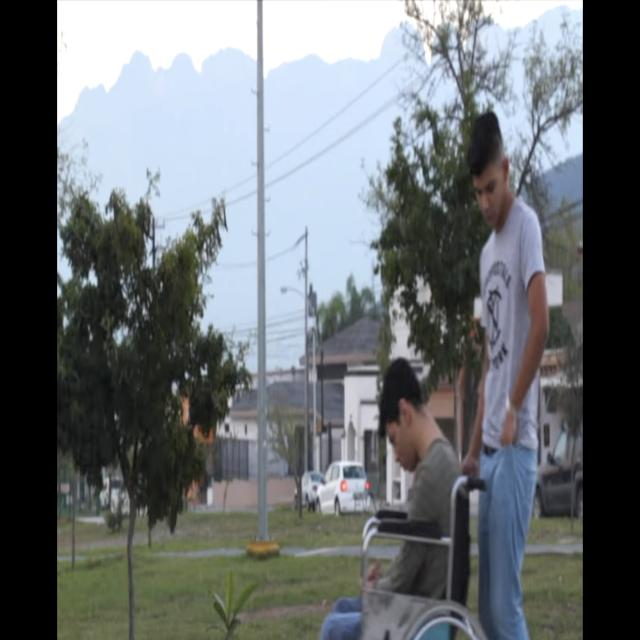wheelchairs: (360, 471, 488, 640)
